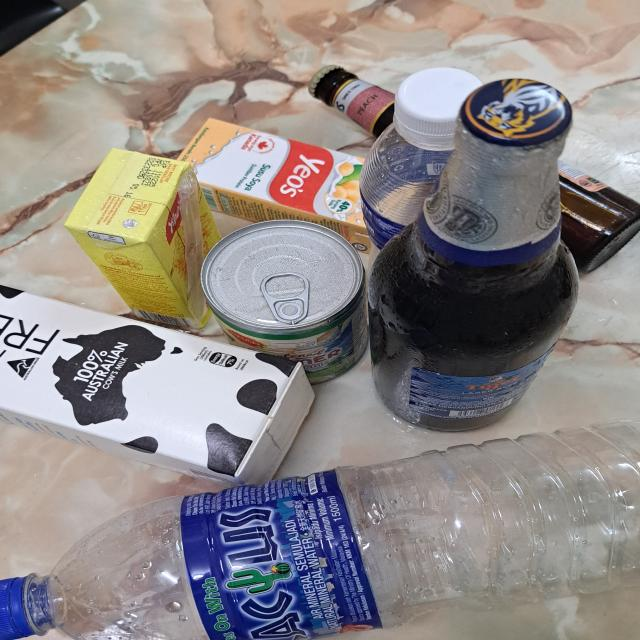can: (204, 223, 377, 387)
drink carton: (0, 278, 316, 489), (176, 117, 418, 249), (65, 140, 223, 326)
glass bottle: (370, 89, 572, 433), (312, 64, 640, 261)
plastic bottle: (45, 428, 640, 640), (362, 122, 502, 278)
plastic bottle cap: (392, 66, 488, 148), (1, 571, 40, 640)
pop tab: (261, 270, 309, 324)
